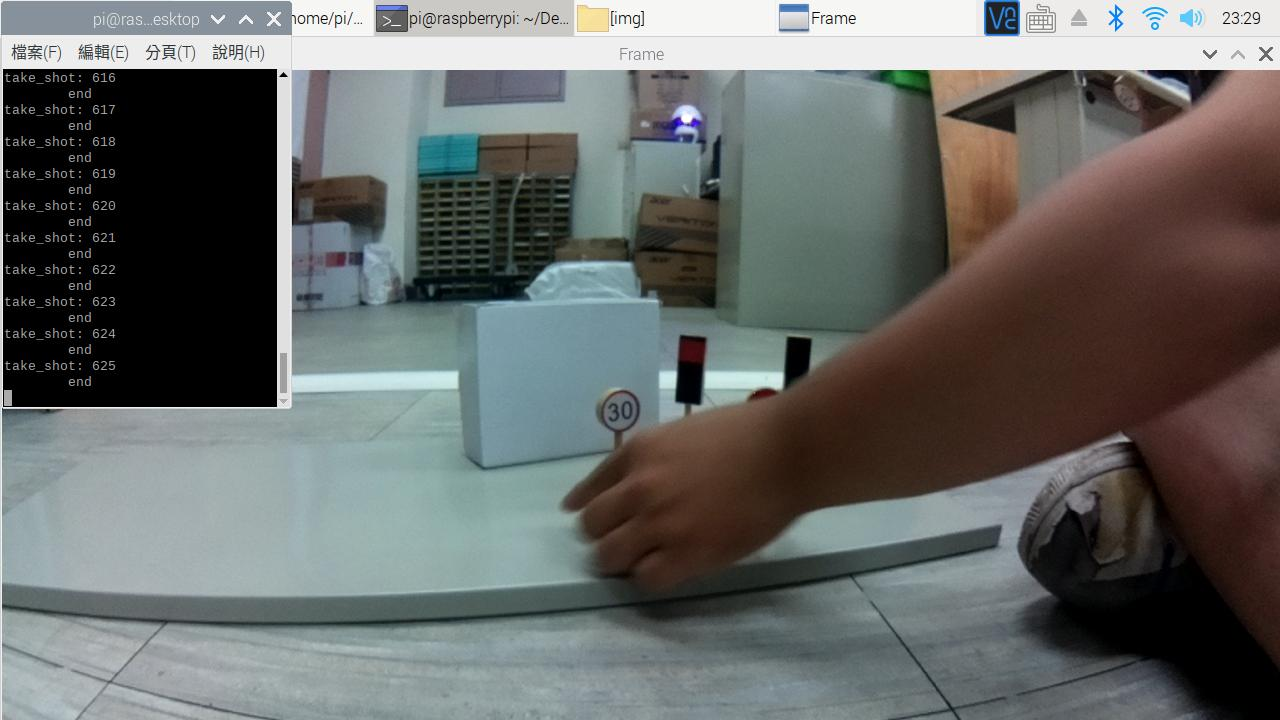Red: (668, 322, 707, 413)
Speed30: (586, 381, 644, 438)
